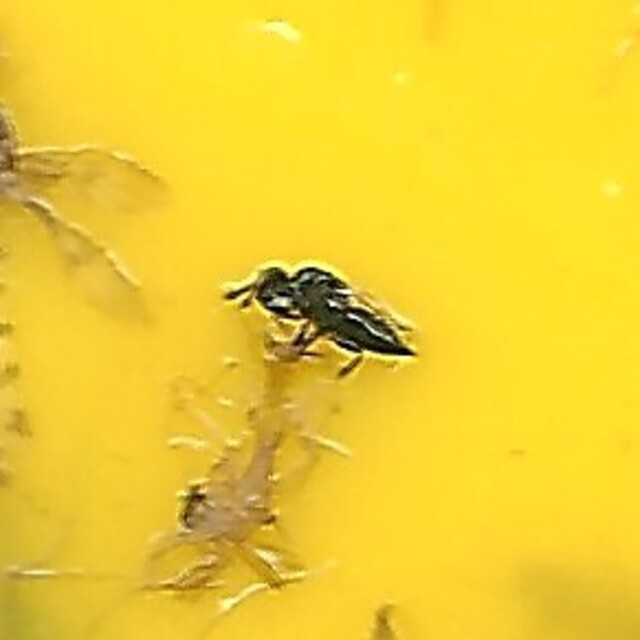Hymenoptera: (220, 245, 420, 395)
